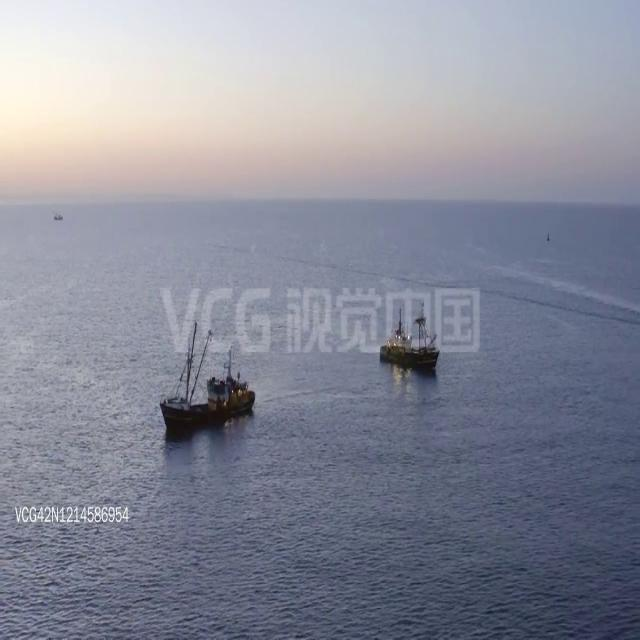fishing boat: (160, 321, 255, 437), (381, 302, 438, 372)
